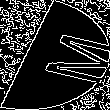M_W: (8, 25, 102, 85)
